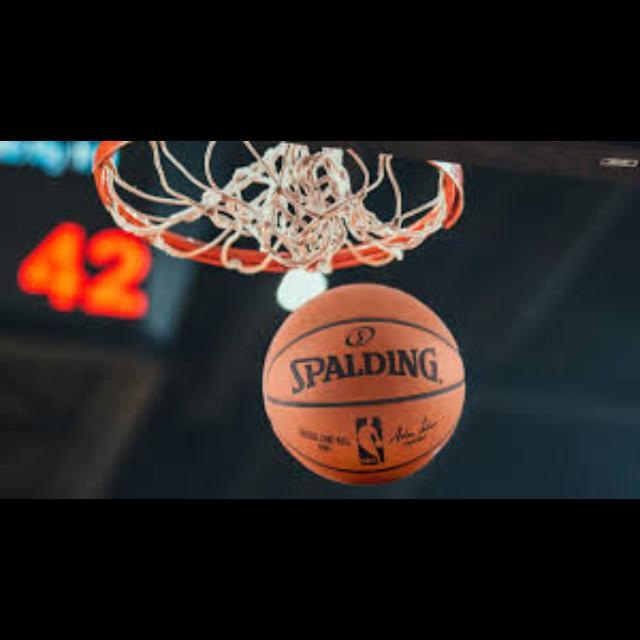basketball: (264, 286, 464, 484)
